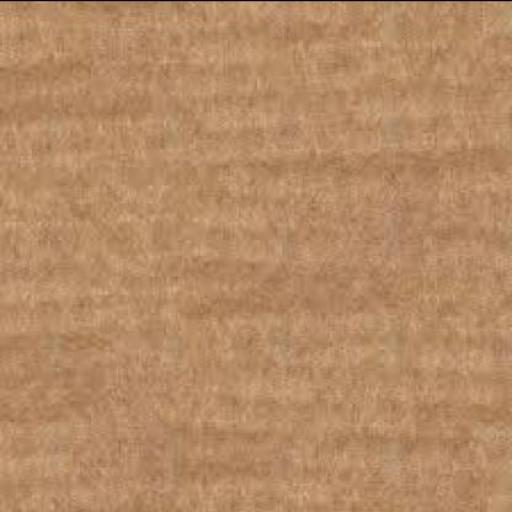cardboard: (0, 2, 511, 511)
